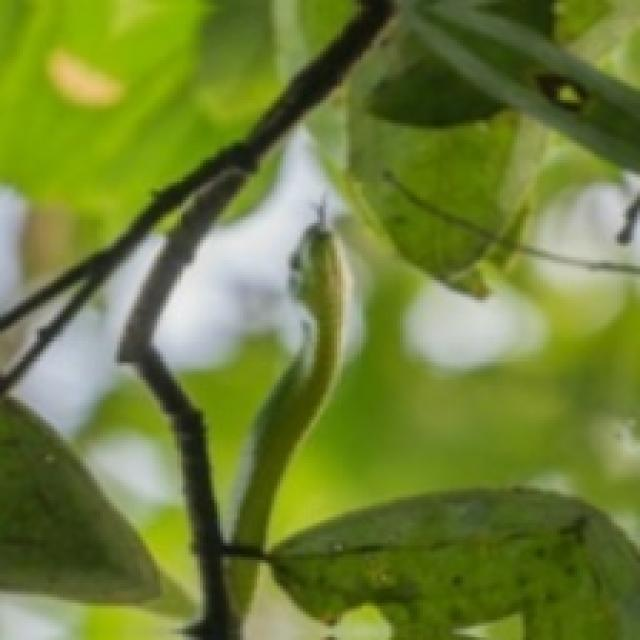red-tailed green ratsnake: (231, 211, 346, 551), (232, 222, 346, 551), (230, 558, 258, 614)
